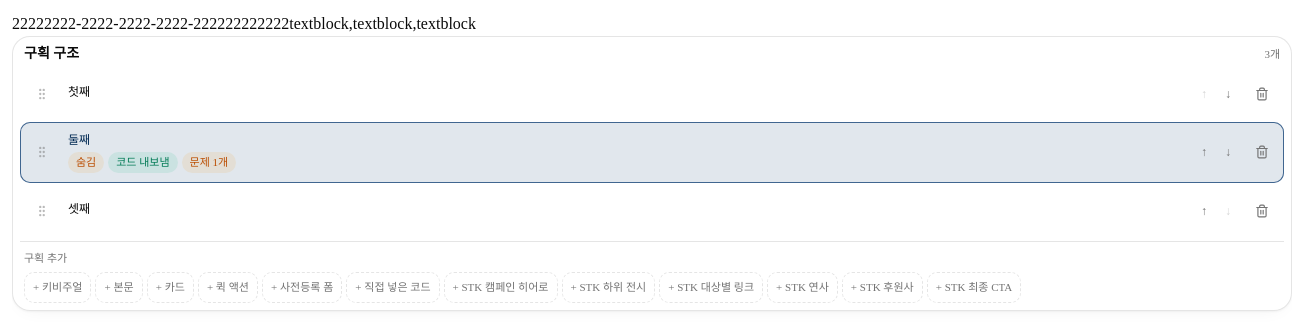
Expo section tree › deleting the selected row chooses next then previous
What coordinates should you click on to do the following:
click the button named "둘째 구획 삭제"
I would click on:
 (1262, 152)
Its box is top-left (1244, 134), bottom-right (1280, 170).
Wait 5000 ms
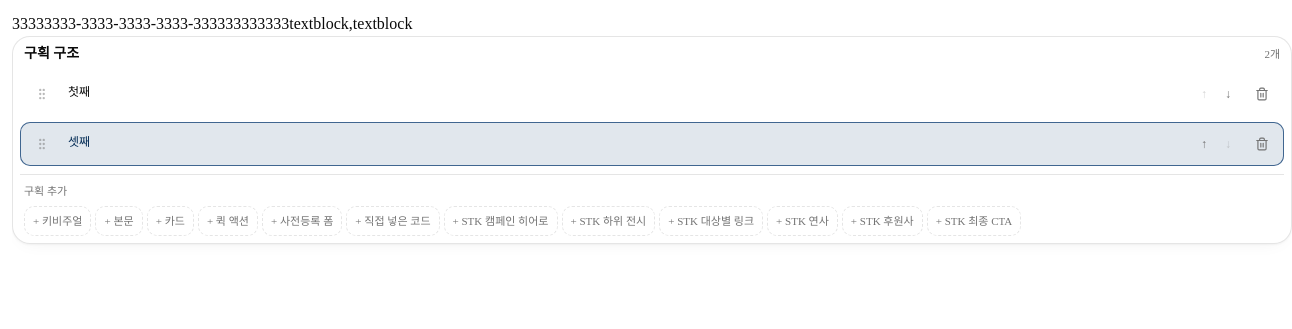
Check: the text with test id "selection" reads "33333333-3333-3333-3333-333333333333", box top-left (12, 15), bottom-right (289, 32)
What coordinates should you click on to do the following:
click the button named "셋째 구획 삭제"
I would click on:
 (1262, 144)
Its box is top-left (1244, 126), bottom-right (1280, 162).
Wait 5000 ms
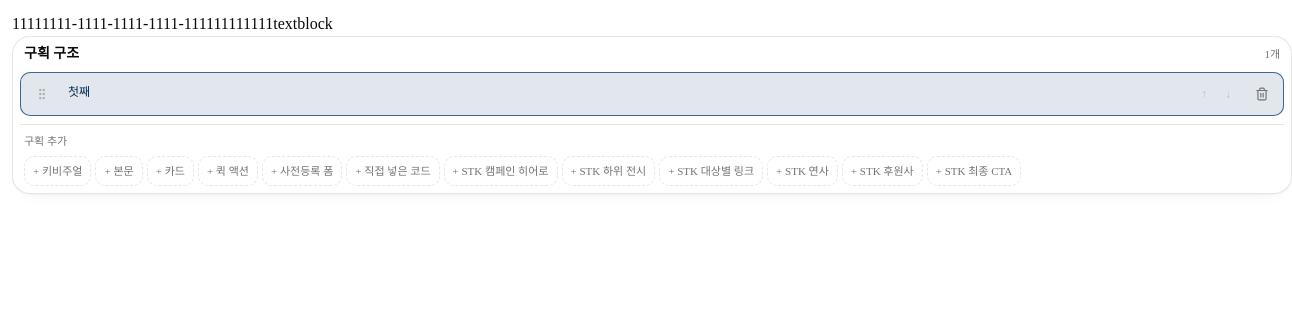
Check: the text with test id "selection" reads "11111111-1111-1111-1111-111111111111", box top-left (12, 15), bottom-right (273, 32)
